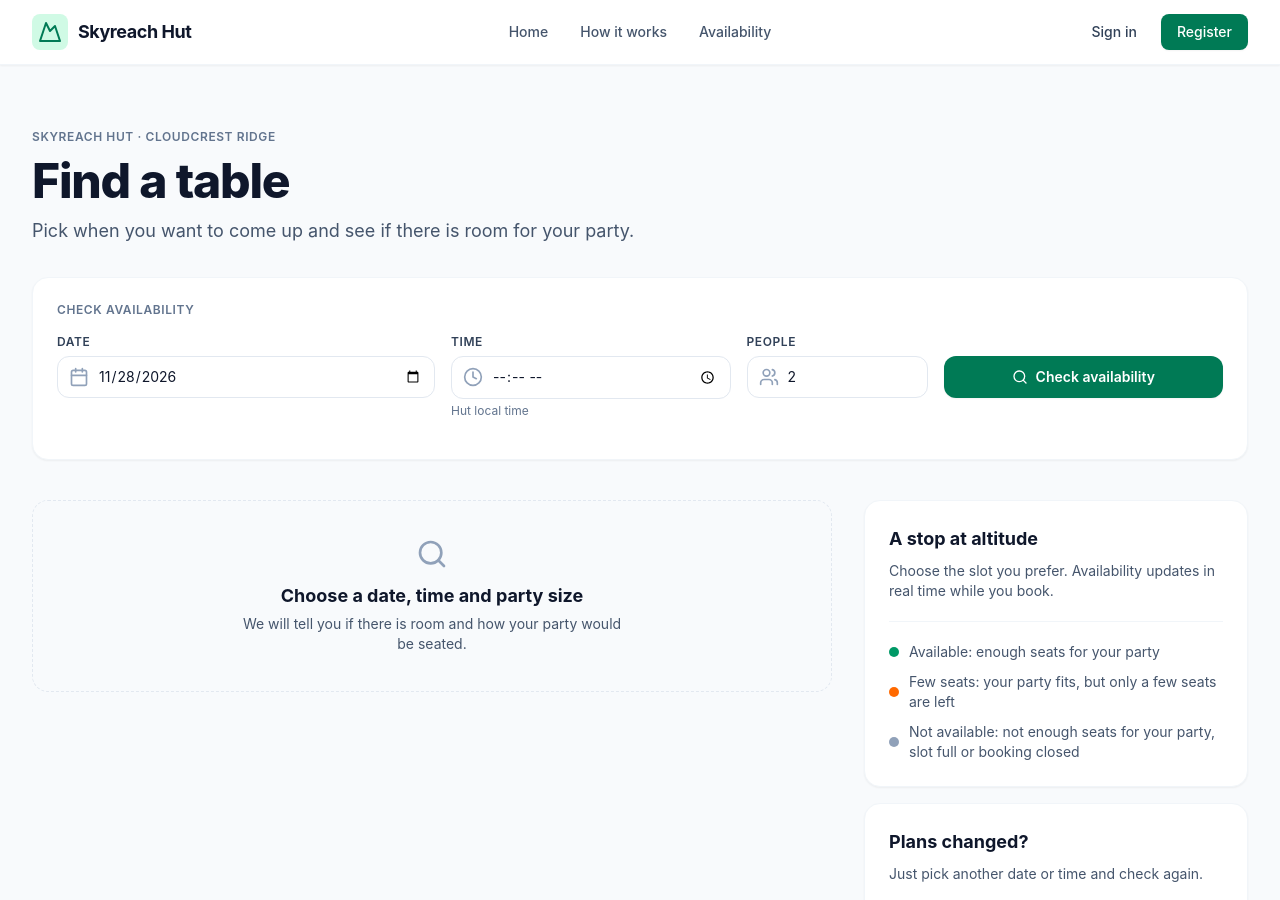
Test: CheckAvailability › submits valid values and renders the availability result
Type "2099-12-31" into the date field labelled "Date". click: (246, 377)
box: 57,356 -> 435,398
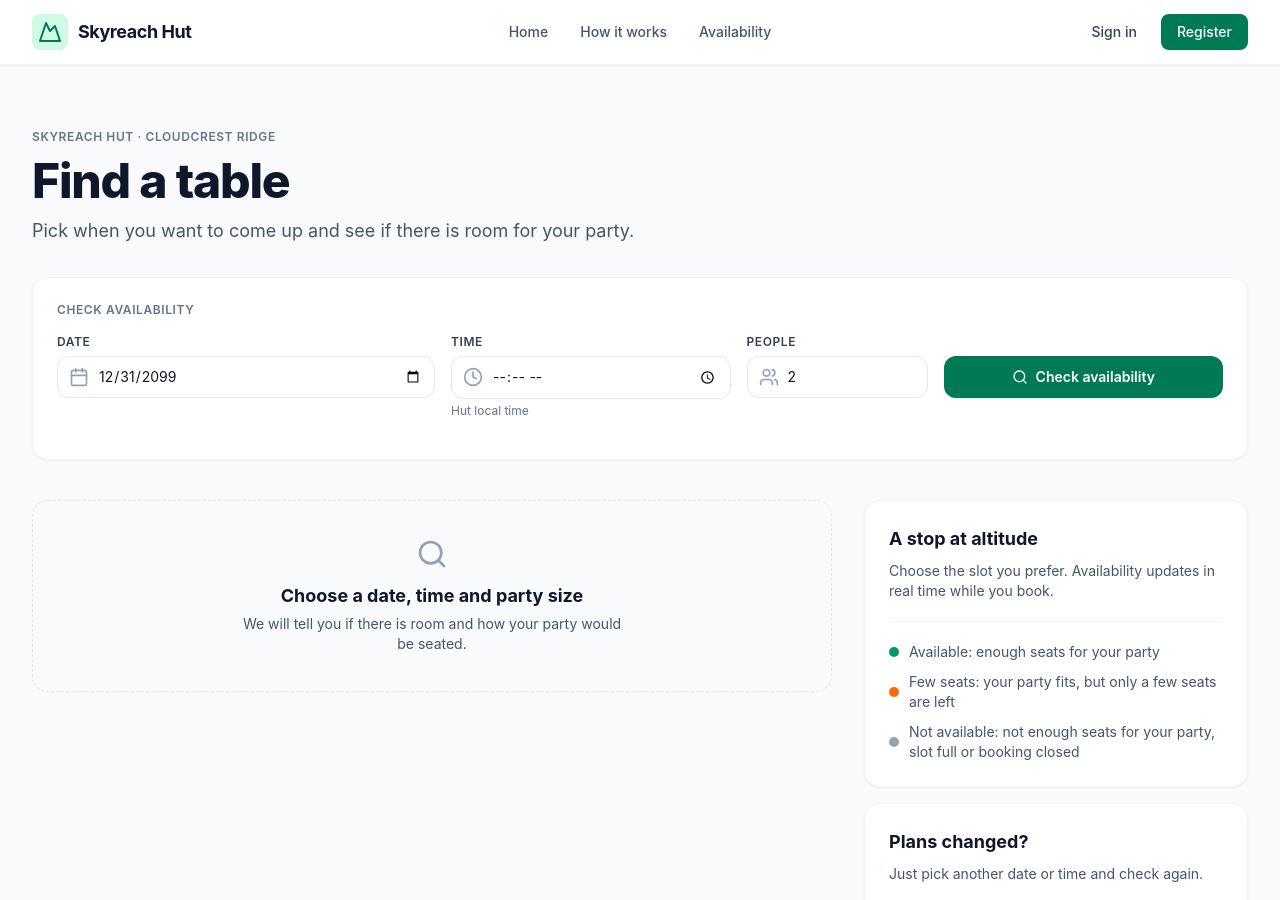
Type "18:30" into the time field labelled "Time". click: (591, 377)
box: 451,356 -> 730,399
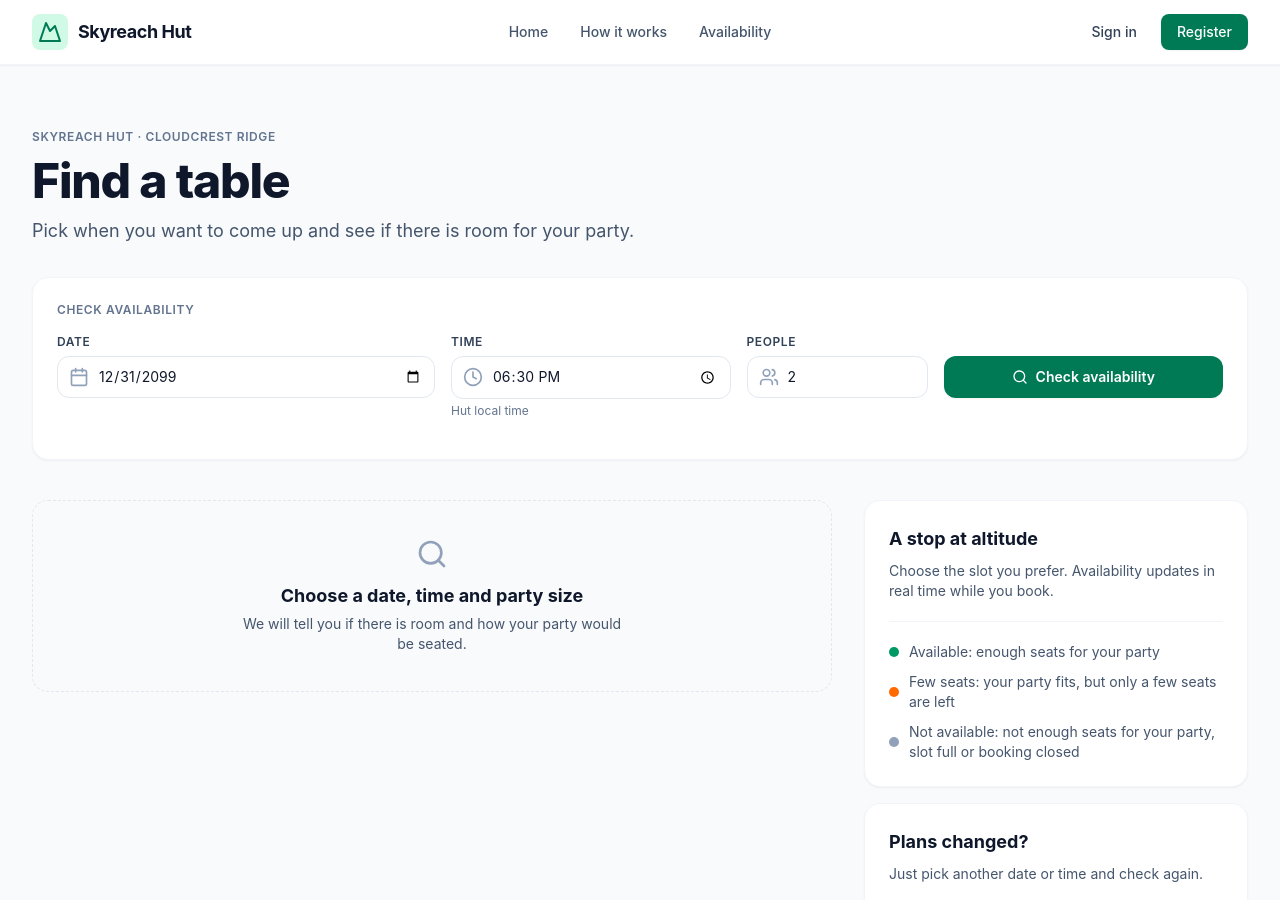
Replace the text in the number field labelled "People" with "6". click: (837, 377)
box: 746,356 -> 928,398
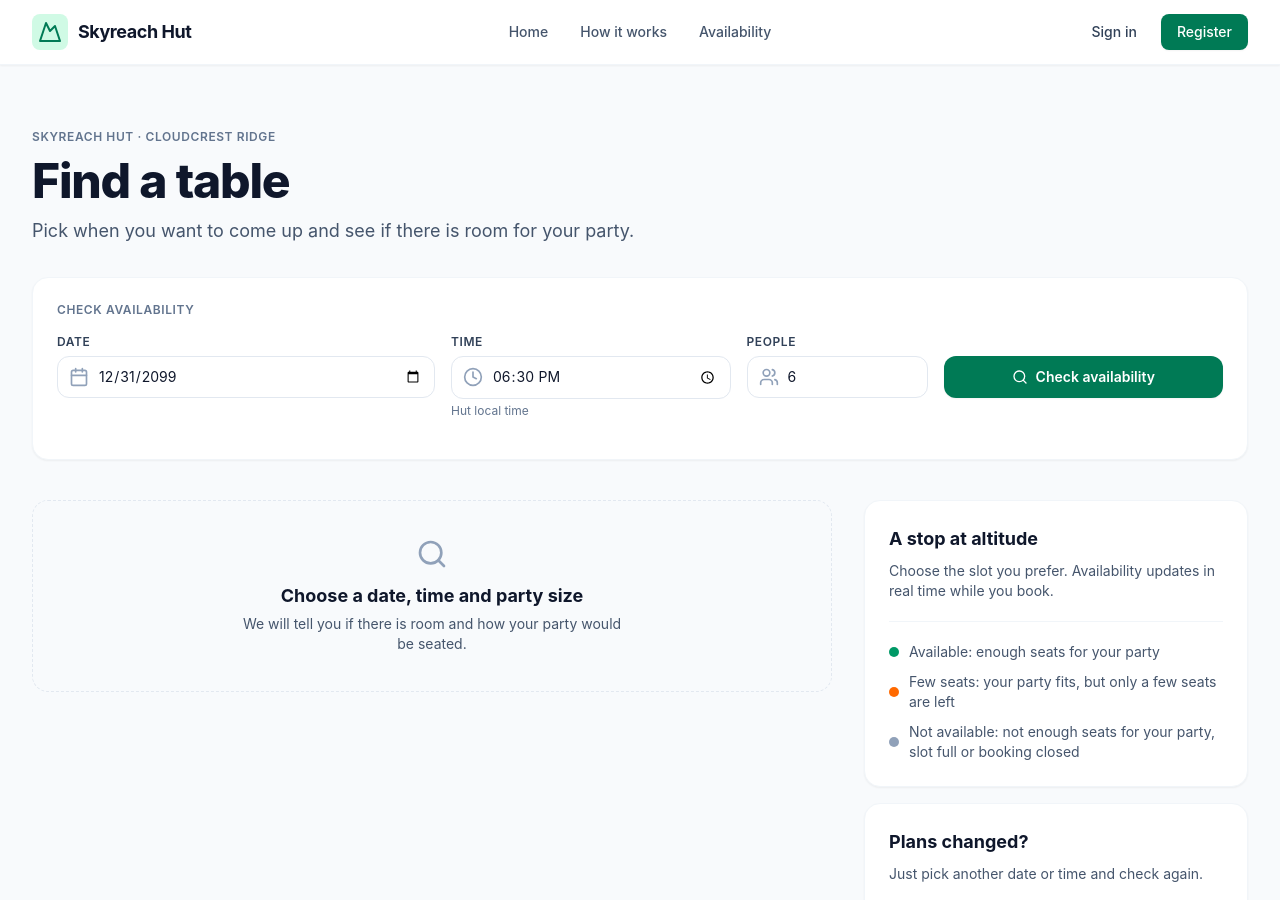
Click the button "Check availability". click: click(1083, 377)
box: 944,356 -> 1223,398
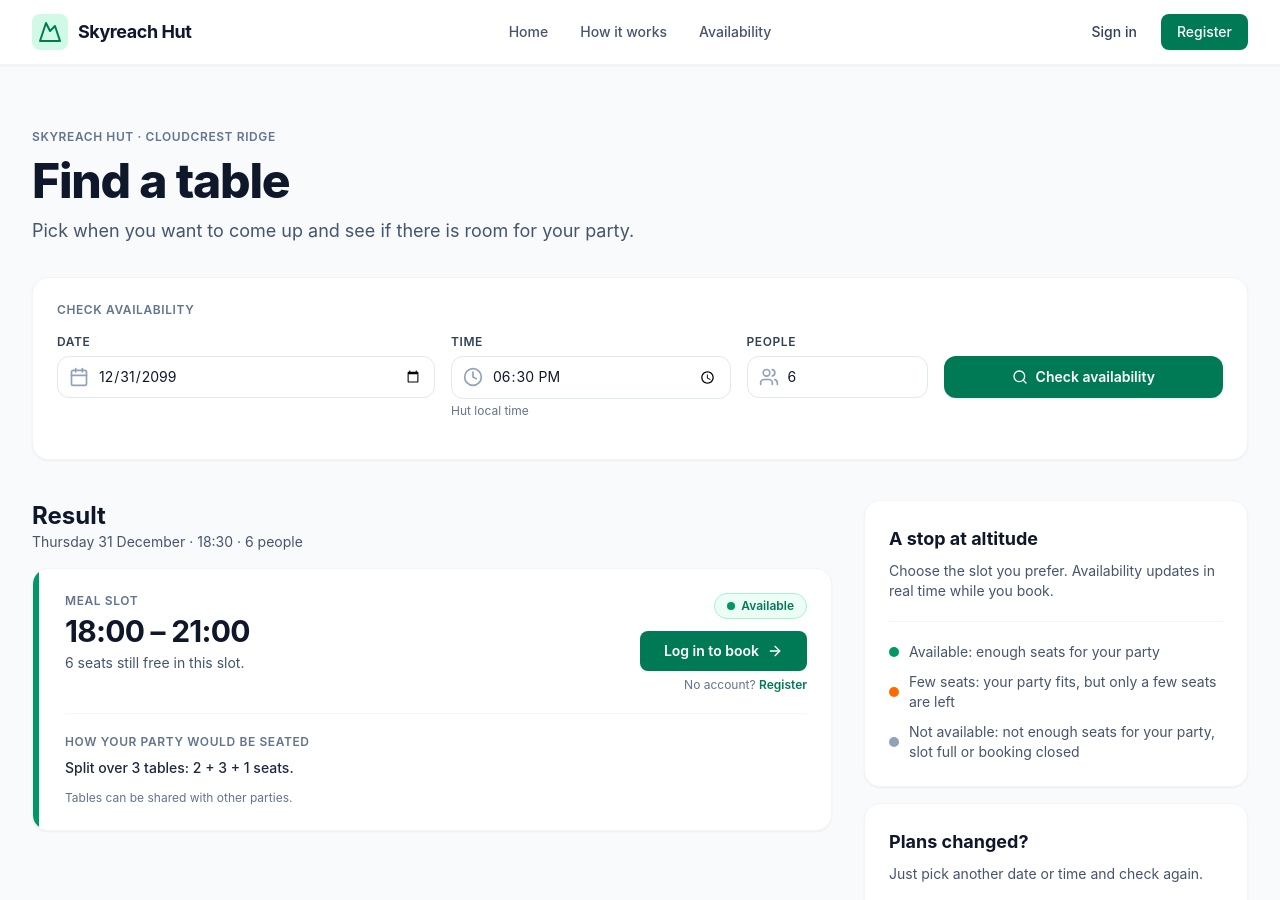
Result: the text "Split over 3 tables: 2 + 3 + 1 seats." is shown at 65,759 -> 294,776
Result: the text "6 seats still free in this slot." is shown at 65,653 -> 250,673
